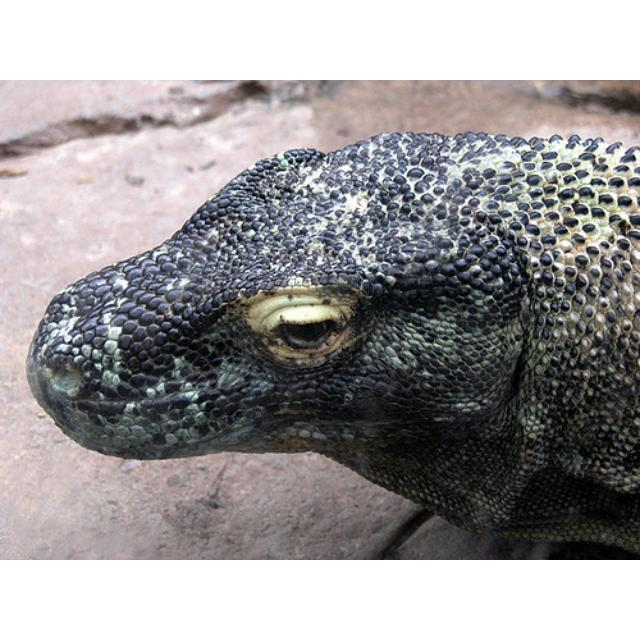KomodoDragon: (23, 129, 638, 552)
